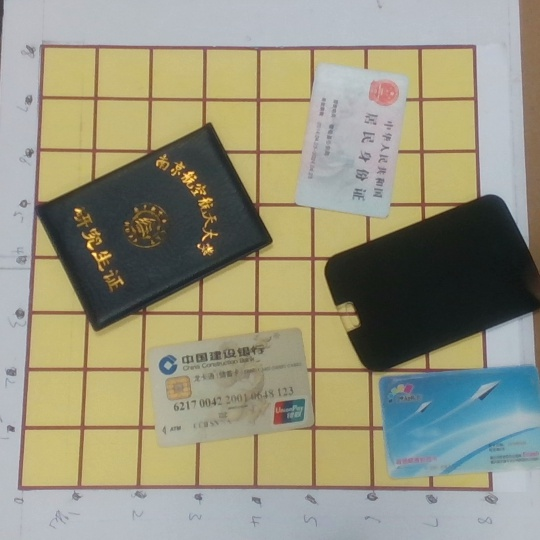card: (143, 326, 323, 443), (378, 363, 540, 477), (300, 63, 407, 220)
wallet: (40, 122, 274, 328), (331, 195, 540, 369)
